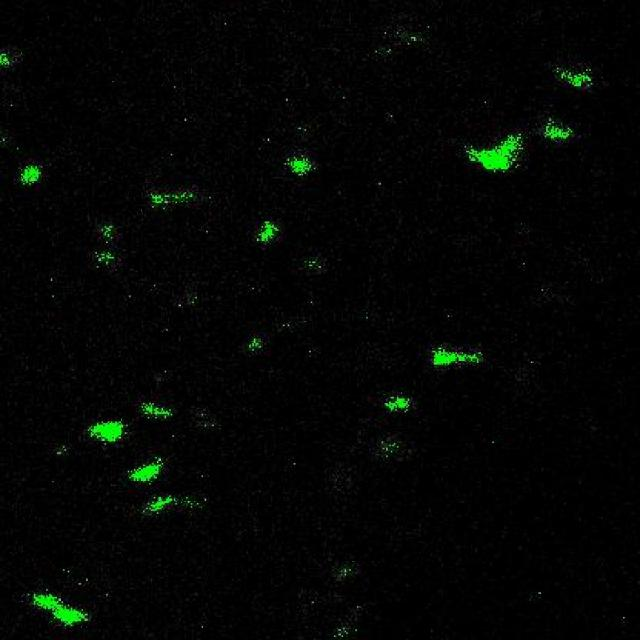Cell: (35, 594, 86, 624), (472, 141, 518, 170), (91, 420, 123, 440), (132, 462, 162, 482), (290, 154, 313, 174), (20, 164, 40, 184), (259, 222, 276, 240), (24, 167, 36, 182)
